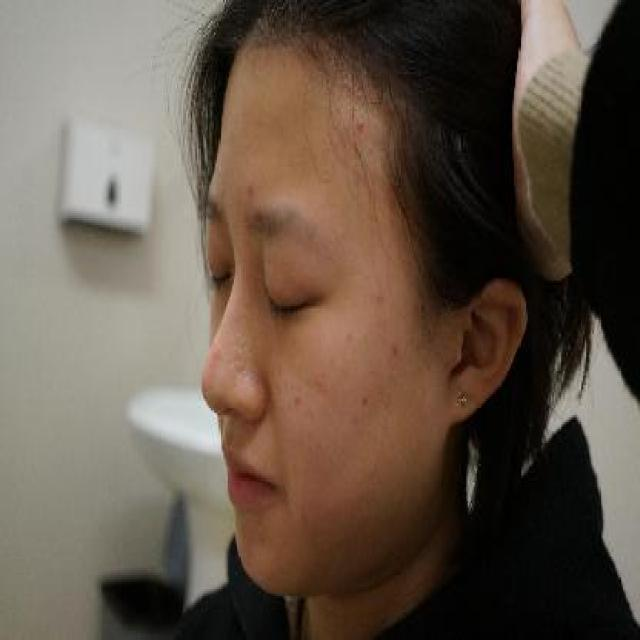dark spot: (358, 385, 372, 415), (391, 332, 402, 366), (245, 172, 257, 200), (291, 390, 303, 415), (343, 327, 357, 348), (351, 410, 362, 429)
papules: (351, 109, 369, 137)
